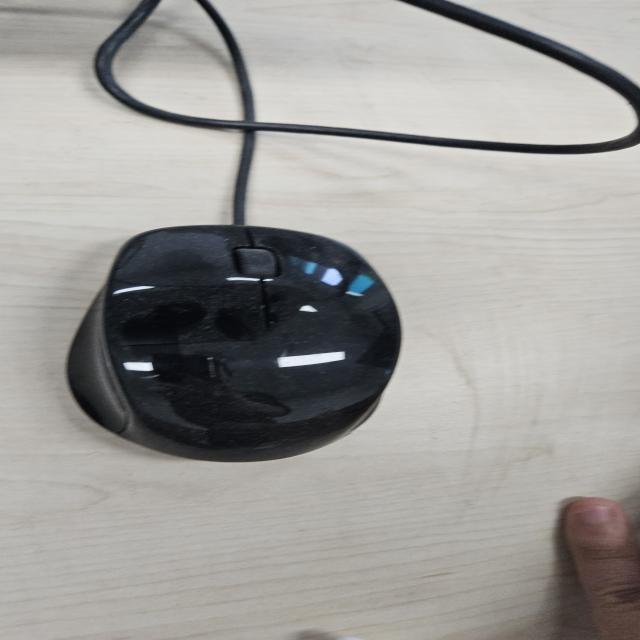Mouse: (63, 222, 406, 463)
